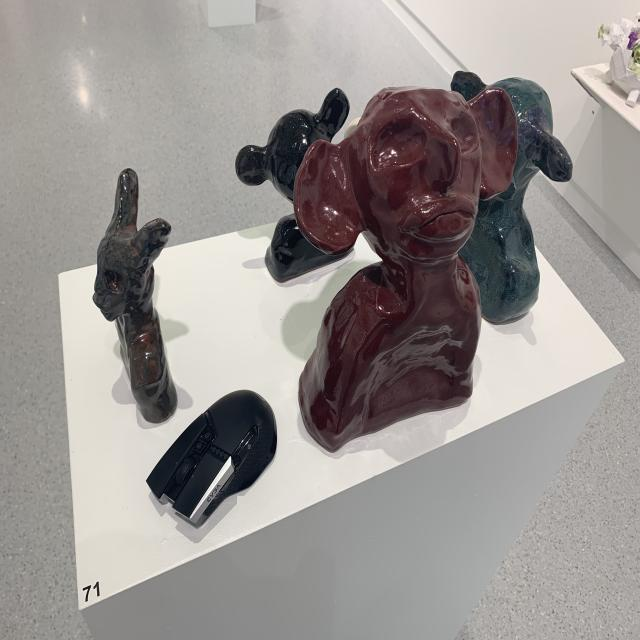Mouse: (140, 388, 282, 534)
